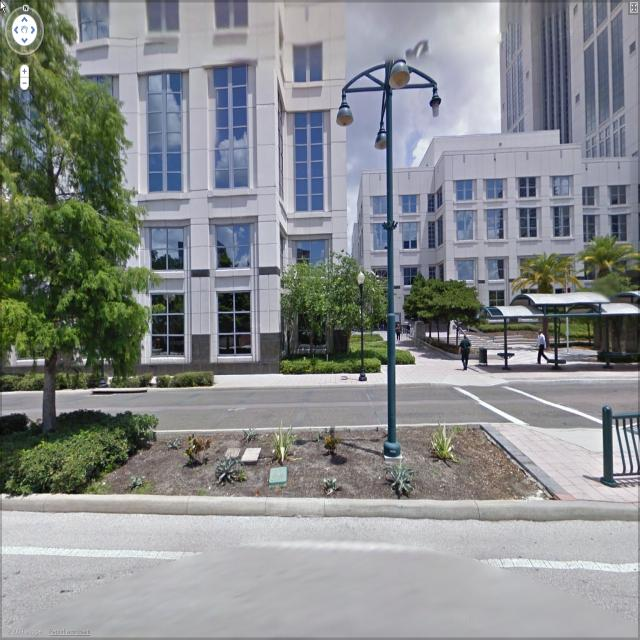b_1: (356, 137, 640, 318), (497, 6, 640, 157)
b_2: (2, 1, 354, 382)
